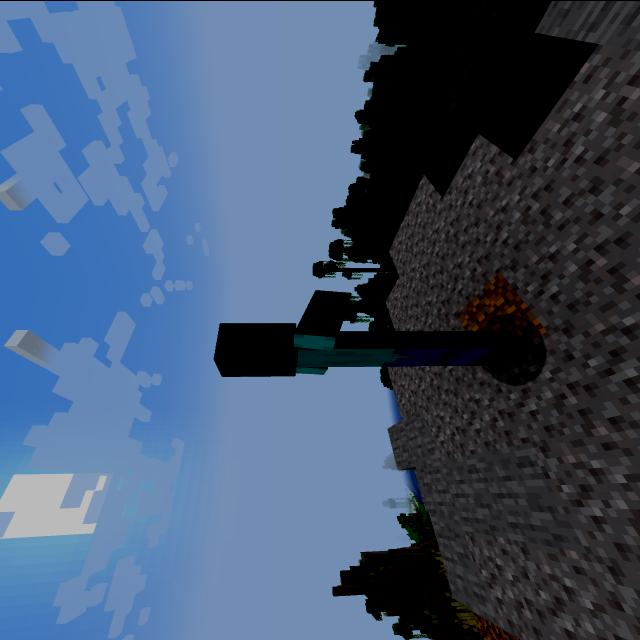Zombie: (203, 283, 553, 390)
